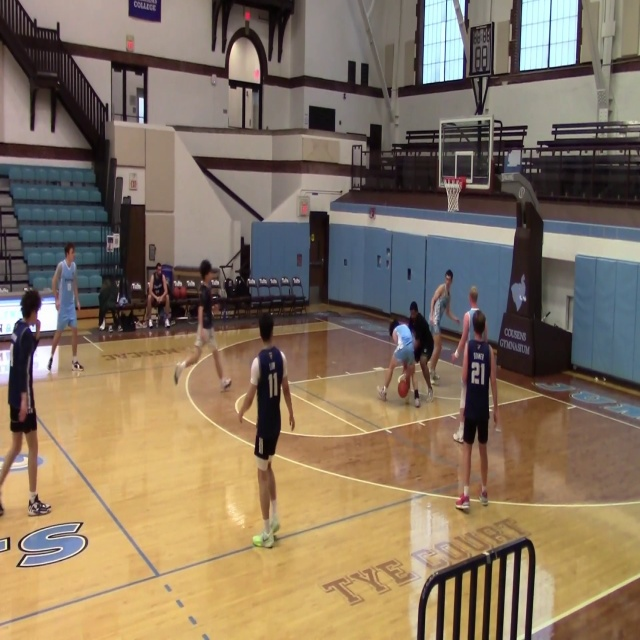Basketball: (171, 280, 187, 299), (397, 374, 409, 398)
